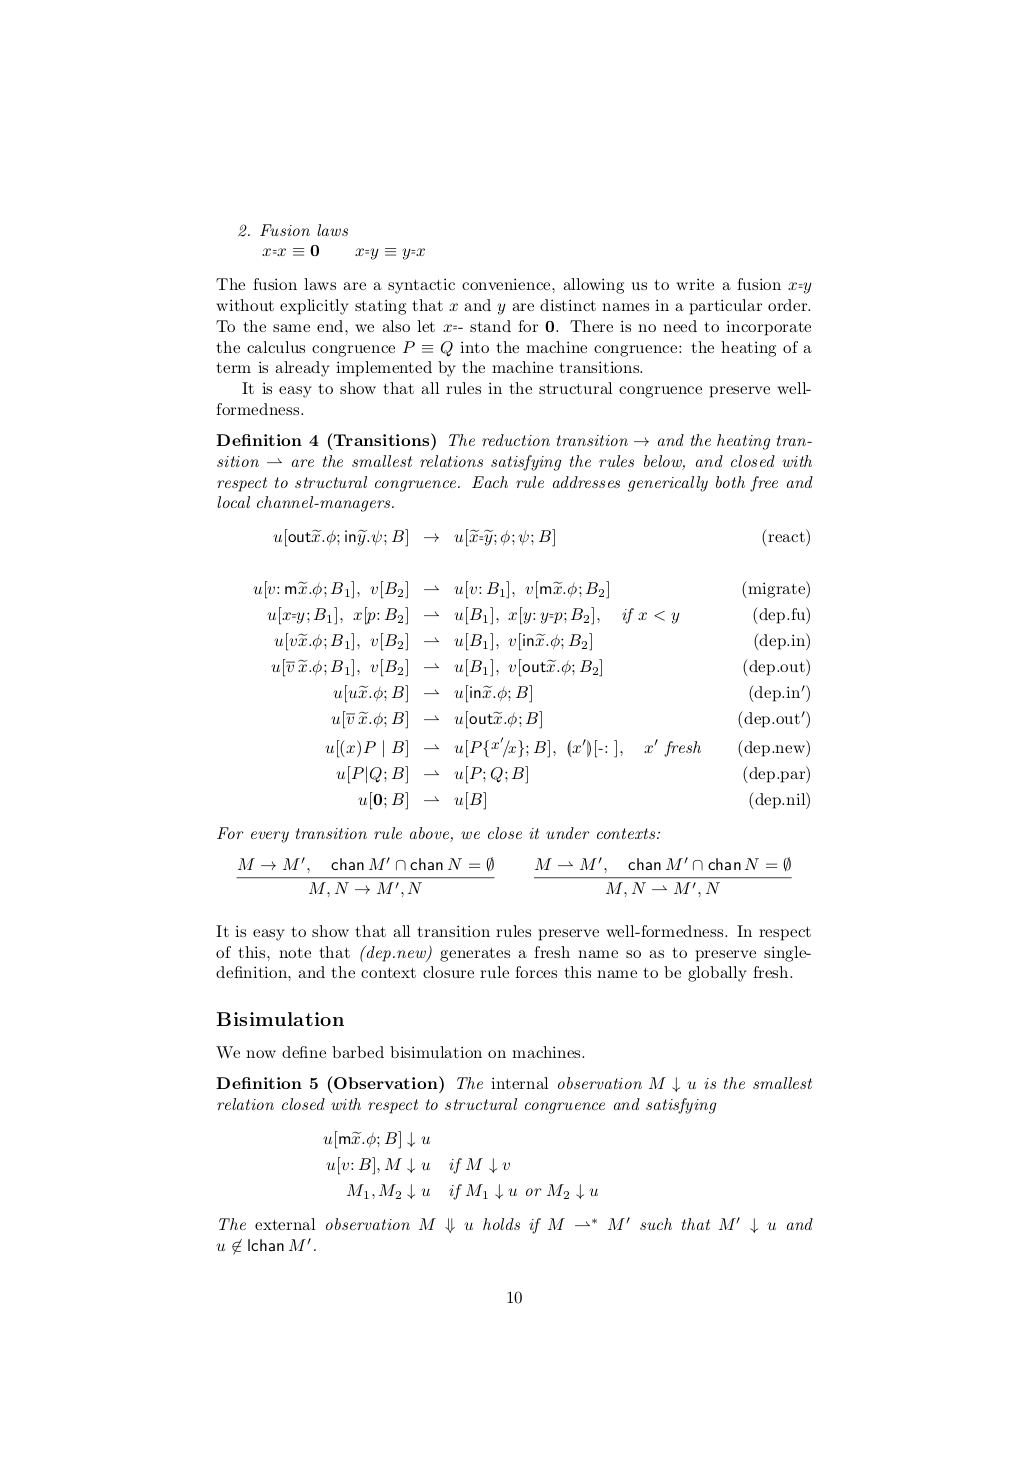formula: (237, 857, 791, 896), (267, 605, 809, 625), (325, 736, 809, 759), (253, 580, 809, 599), (271, 658, 809, 677), (273, 528, 809, 547), (274, 632, 809, 651), (331, 711, 809, 729), (333, 684, 809, 703), (336, 765, 809, 784), (358, 791, 809, 810), (346, 1182, 598, 1200), (326, 1154, 509, 1175), (262, 243, 424, 260), (322, 1130, 430, 1149)
